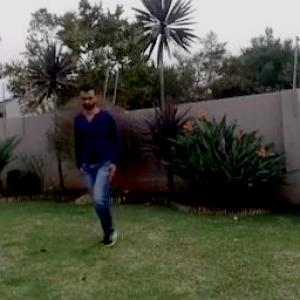follow: (77, 77, 121, 230)
